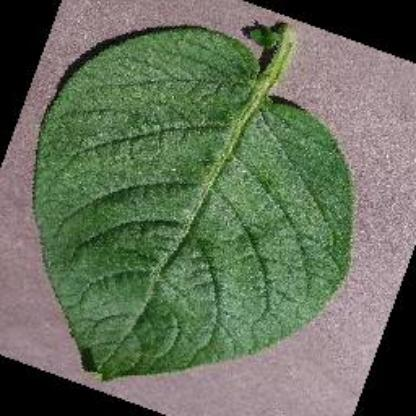Healthy-plant: (27, 19, 363, 391)
